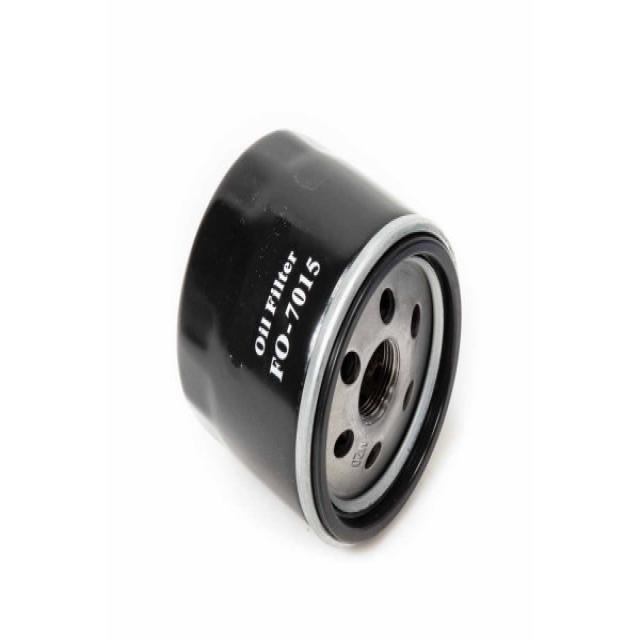oil_filter: (176, 108, 462, 558)
